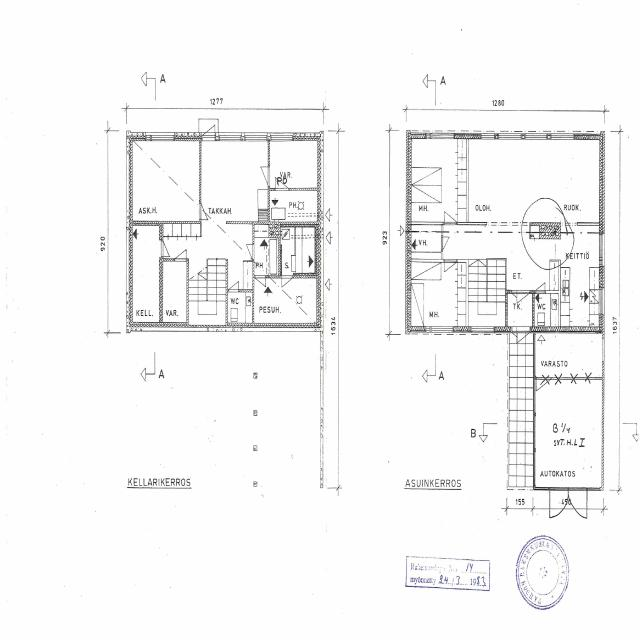door: (568, 486, 587, 516), (550, 486, 568, 516), (202, 114, 215, 141), (517, 327, 530, 351), (254, 167, 270, 186), (516, 290, 530, 311), (275, 170, 288, 190), (444, 259, 457, 279), (444, 204, 456, 224), (199, 203, 213, 220), (159, 241, 174, 256), (175, 243, 186, 261), (282, 273, 292, 292), (255, 275, 266, 292), (242, 244, 254, 259), (535, 276, 545, 293), (229, 276, 238, 292), (441, 237, 452, 250), (512, 327, 517, 340), (512, 290, 517, 300)
